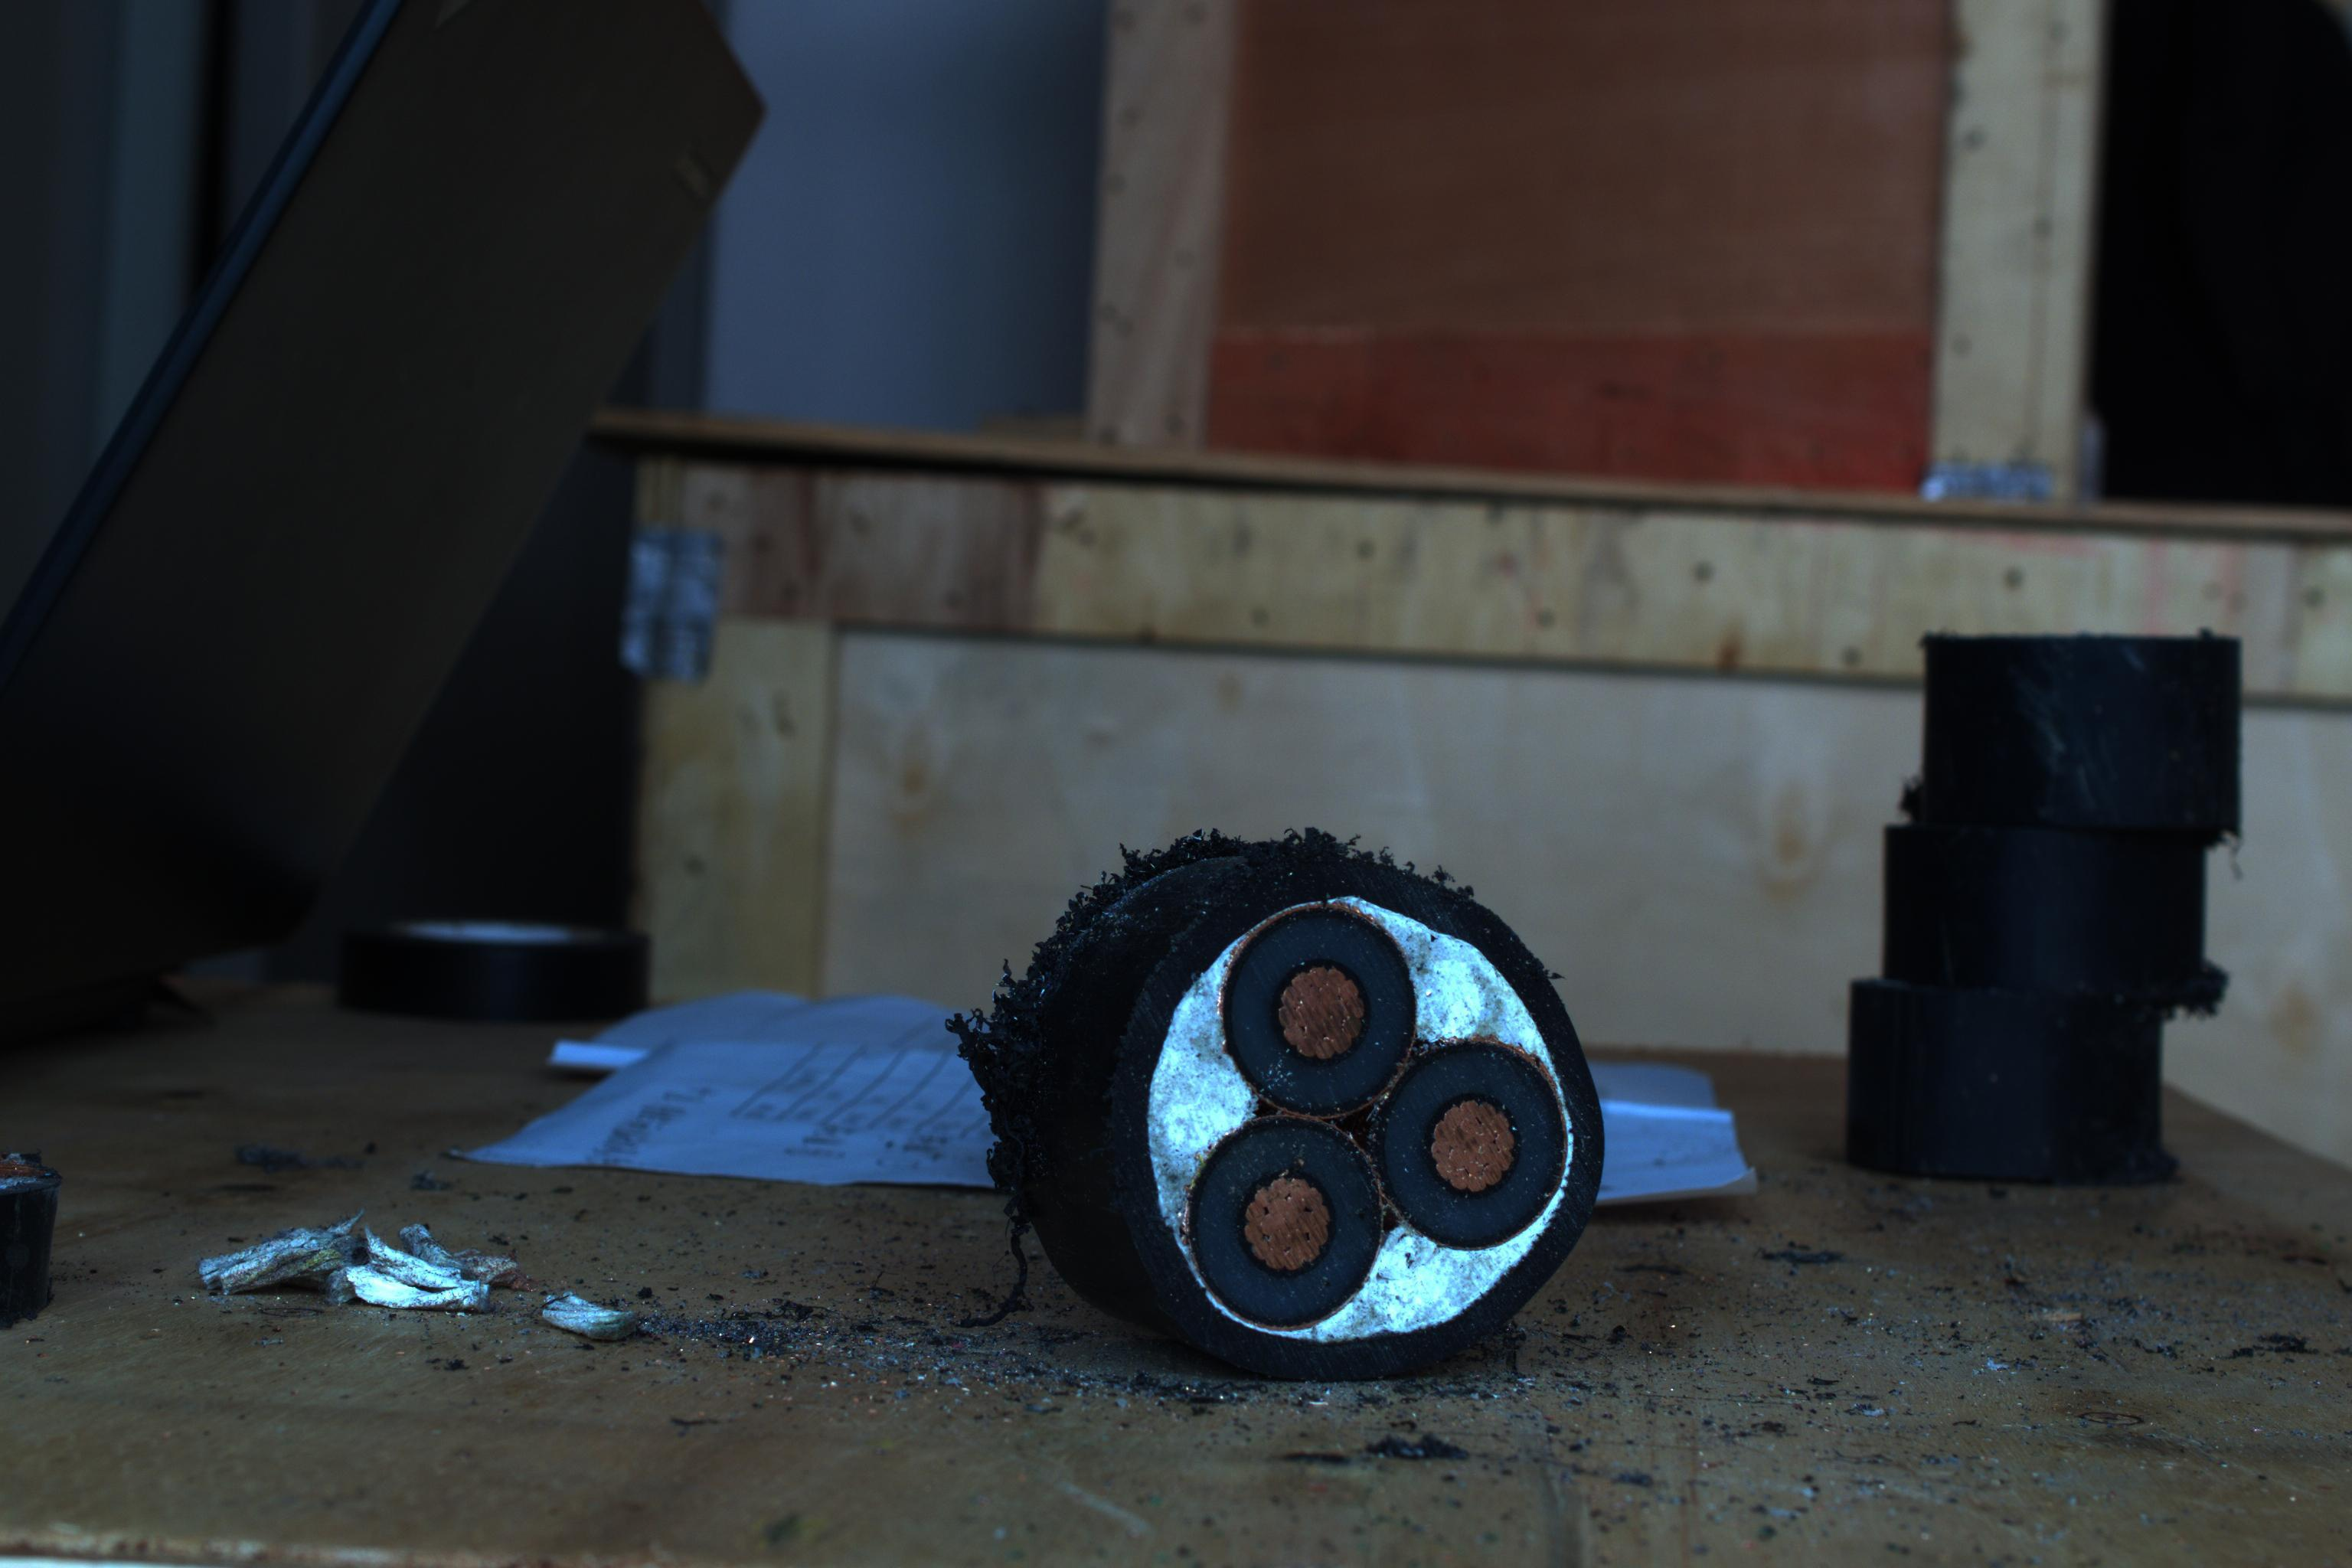YJV_8.7_10kV_3x70: (1101, 850, 1599, 1340)
